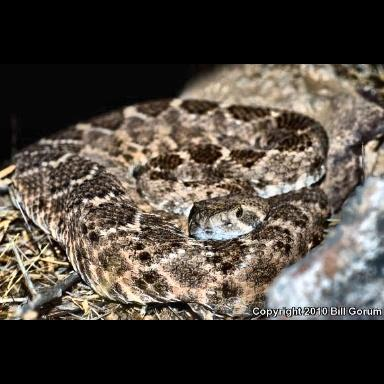snake: (15, 100, 329, 313)
